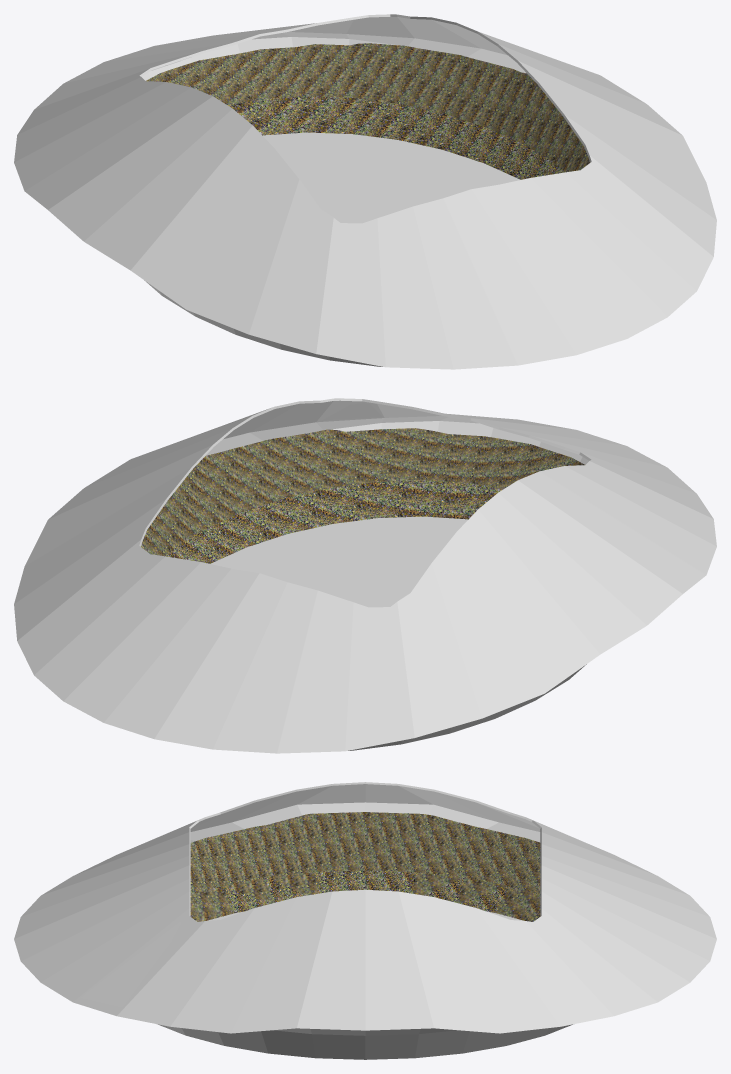
The model's file is Stade.fbx.
3 views of the same model, one above another, from view 1: azimuth 30°, elevation 25°; view 2: azimuth 150°, elevation 25°; view 3: azimuth 270°, elevation 25° (orthographic). The views are drawn at different scales.
Visible parts, largest first — view 1: Stade, Tribune, Terrain; view 2: Stade, Tribune, Terrain; view 3: Stade, Tribune.
Part boxes in pixels (x1=…): Stade: x1=14, y1=14, x2=716, y2=369; Tribune: x1=146, y1=43, x2=589, y2=179; Terrain: x1=285, y1=141, x2=466, y2=223; Stade: x1=14, y1=398, x2=716, y2=753; Tribune: x1=141, y1=428, x2=584, y2=563; Terrain: x1=264, y1=525, x2=445, y2=607; Stade: x1=14, y1=782, x2=716, y2=1059; Tribune: x1=190, y1=812, x2=540, y2=921.
Bounding box in the file's own units: 278 × 80.4 × 362.
